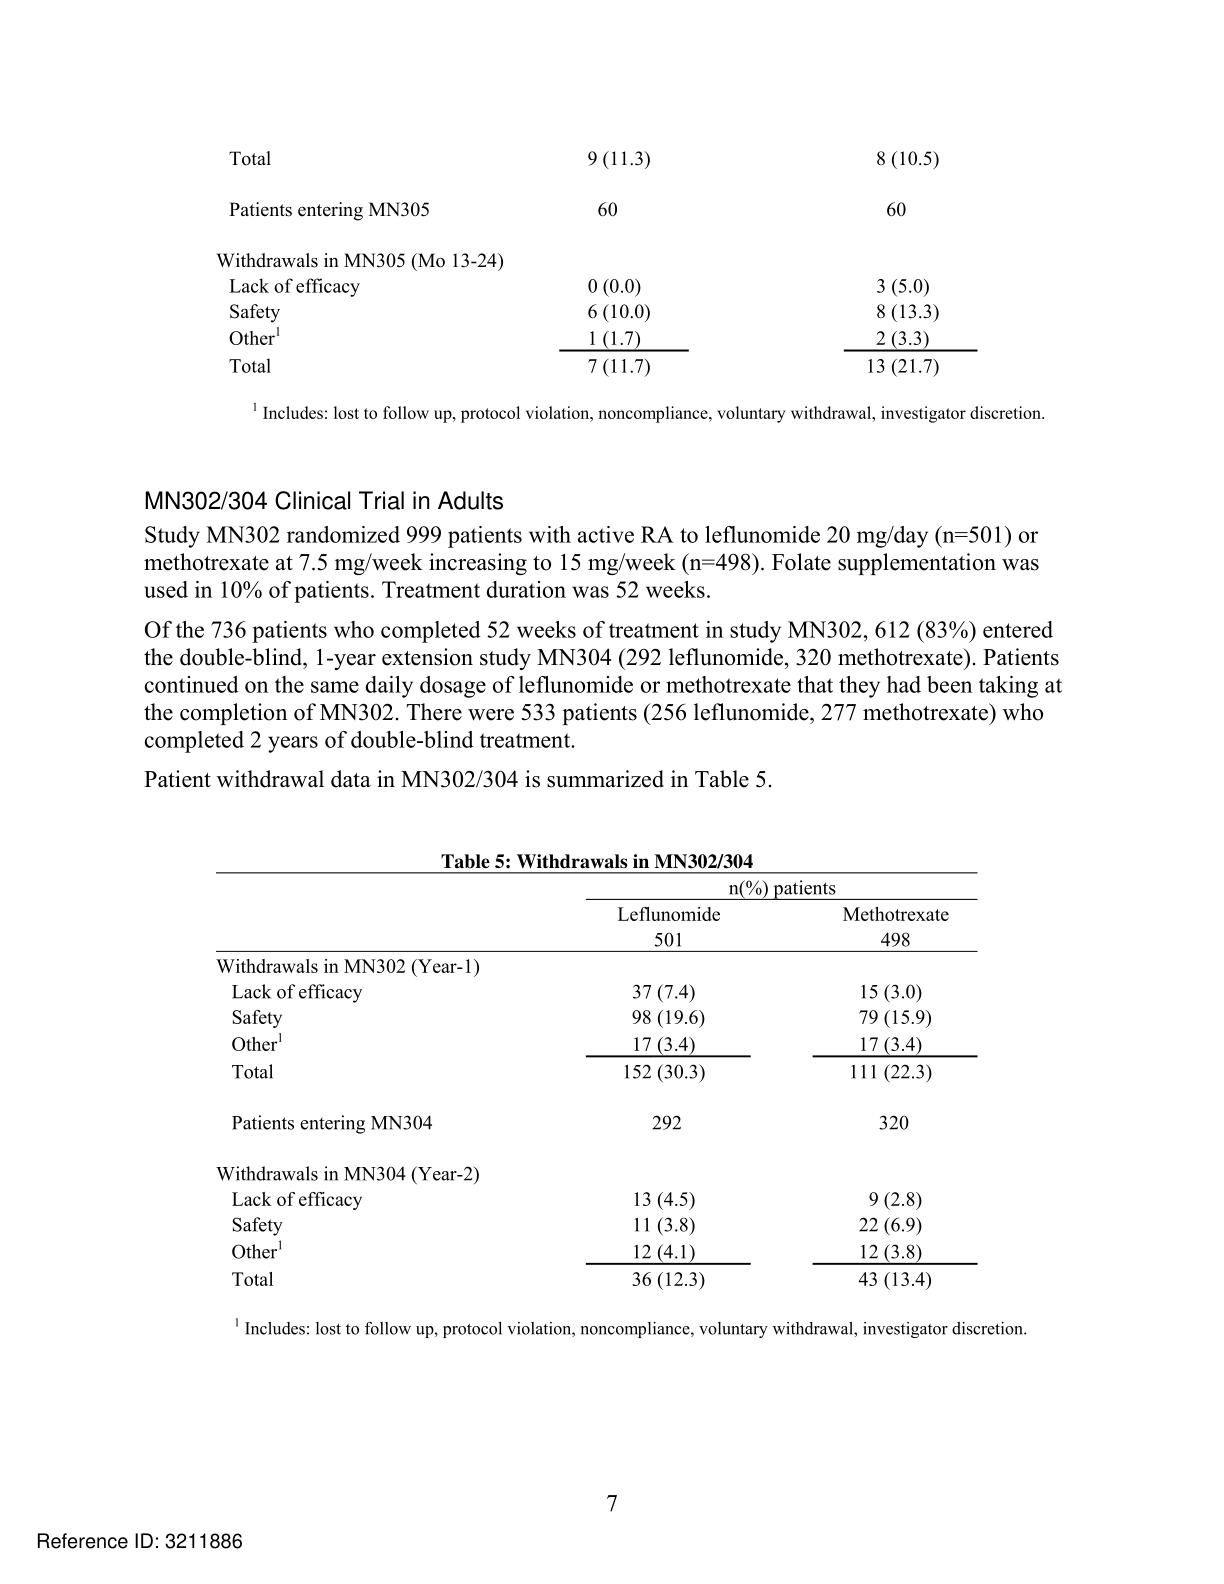nolines: (213, 144, 982, 378)
partial_lined_merged_cells: (213, 870, 978, 1299)
